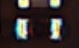COMP: (9, 15, 69, 43)
GAP: (17, 1, 62, 26)
